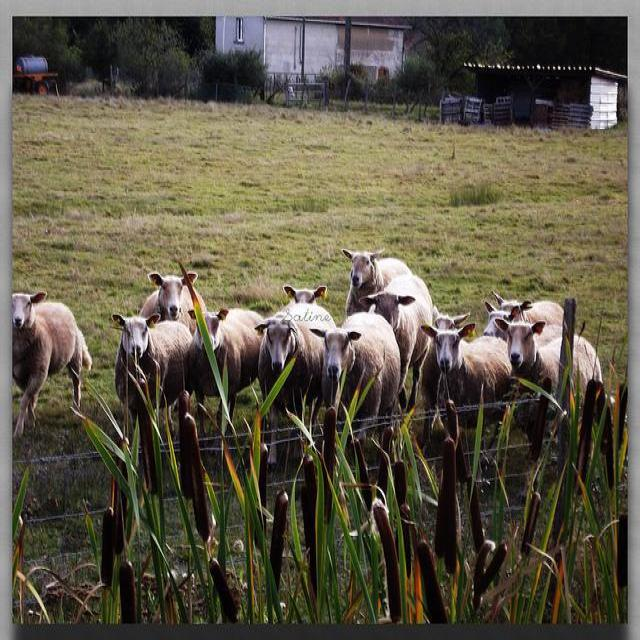Sheep: (256, 302, 338, 462), (309, 303, 401, 445), (12, 294, 94, 441), (419, 322, 514, 448), (360, 275, 433, 411), (192, 305, 265, 436), (113, 312, 195, 416), (340, 246, 416, 316), (137, 270, 211, 341)
